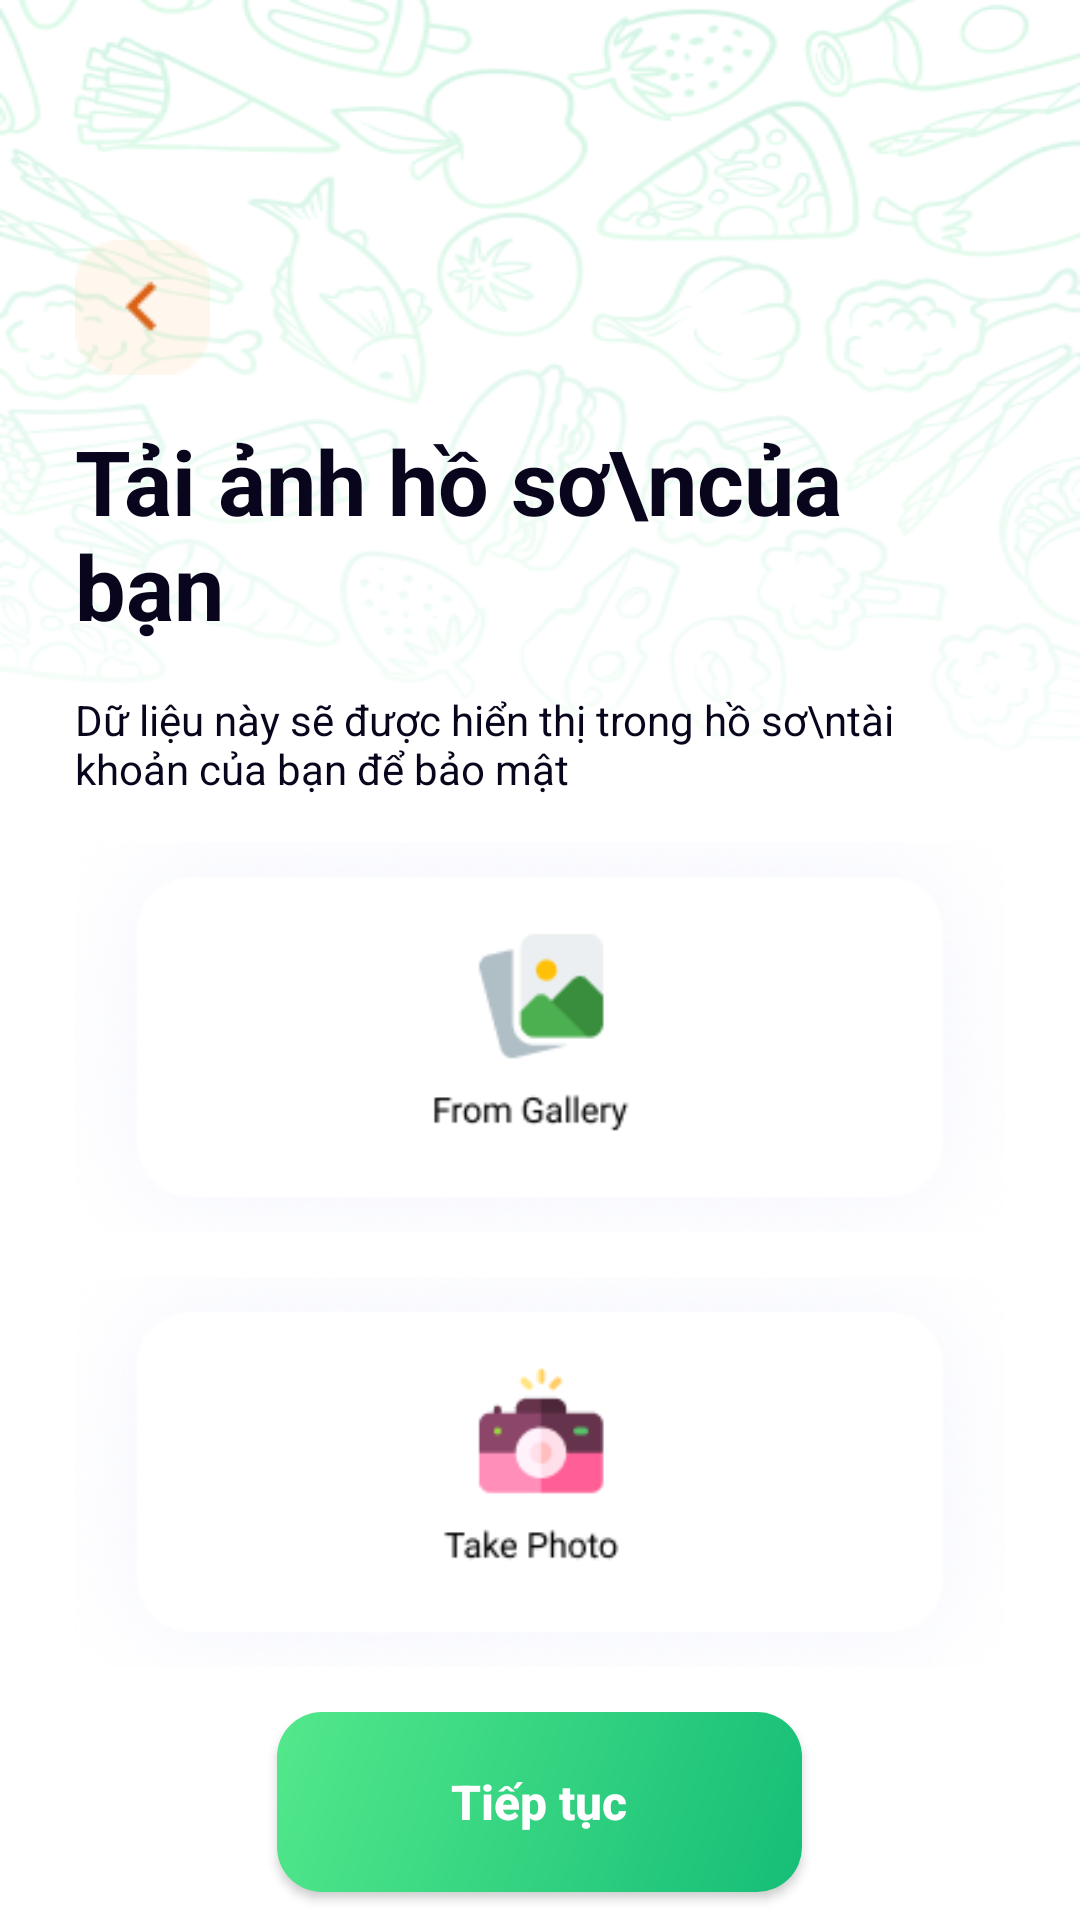

Icons on this 1080px x 1920px Android screen, each with the point to tap as [x,y]:
back: [142,307]
camera: [531,1463]
